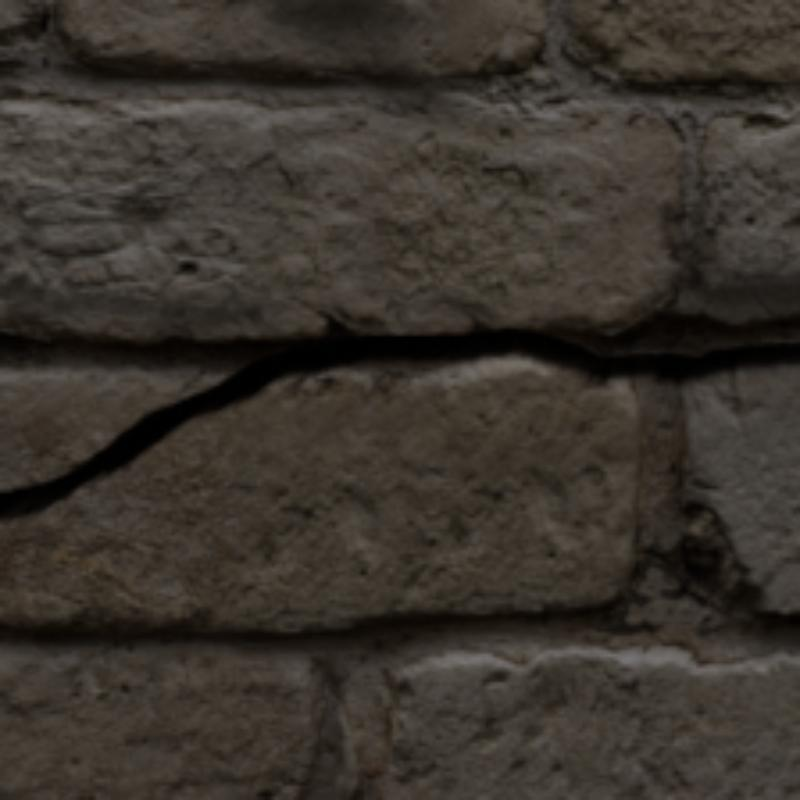pothole: (0, 325, 796, 521)
